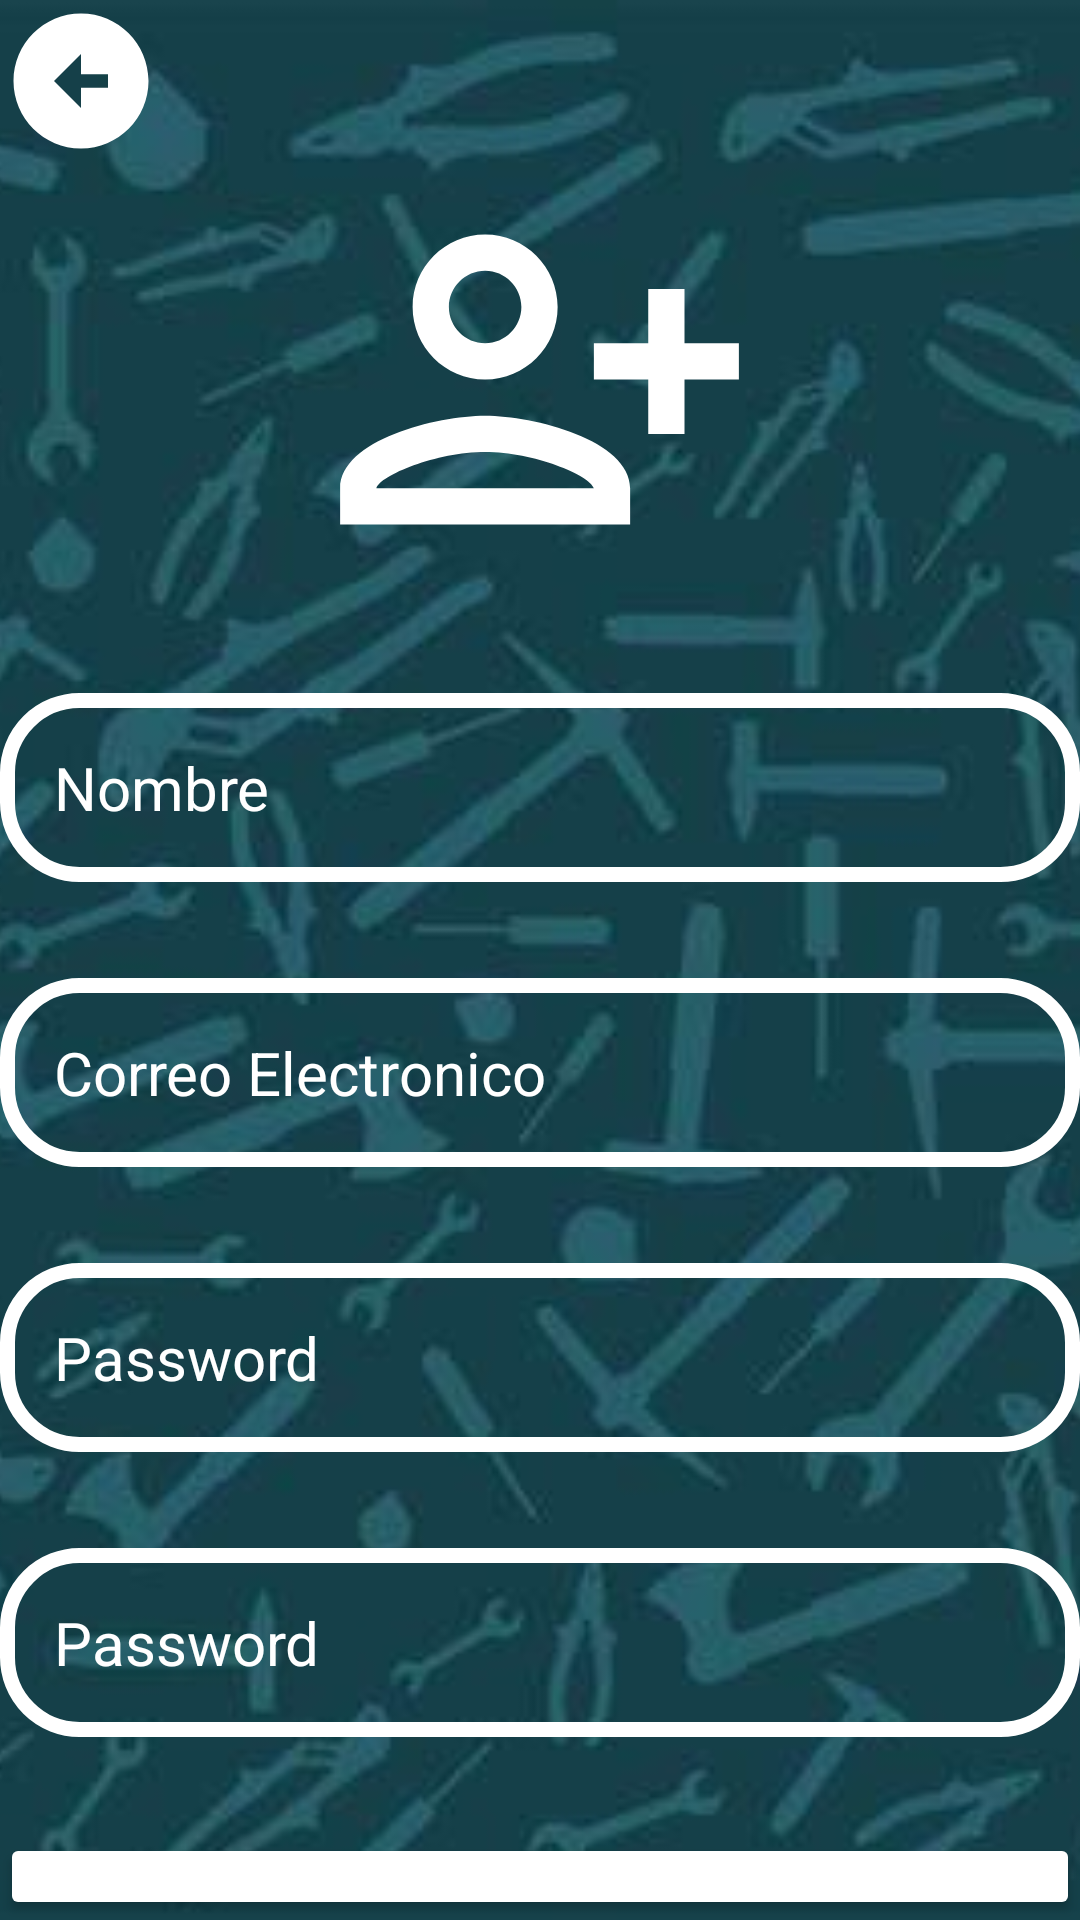

Screen size 1080 × 1920. Icon name, then its center in pixels as point (x, y):
regreso: point (81, 81)
